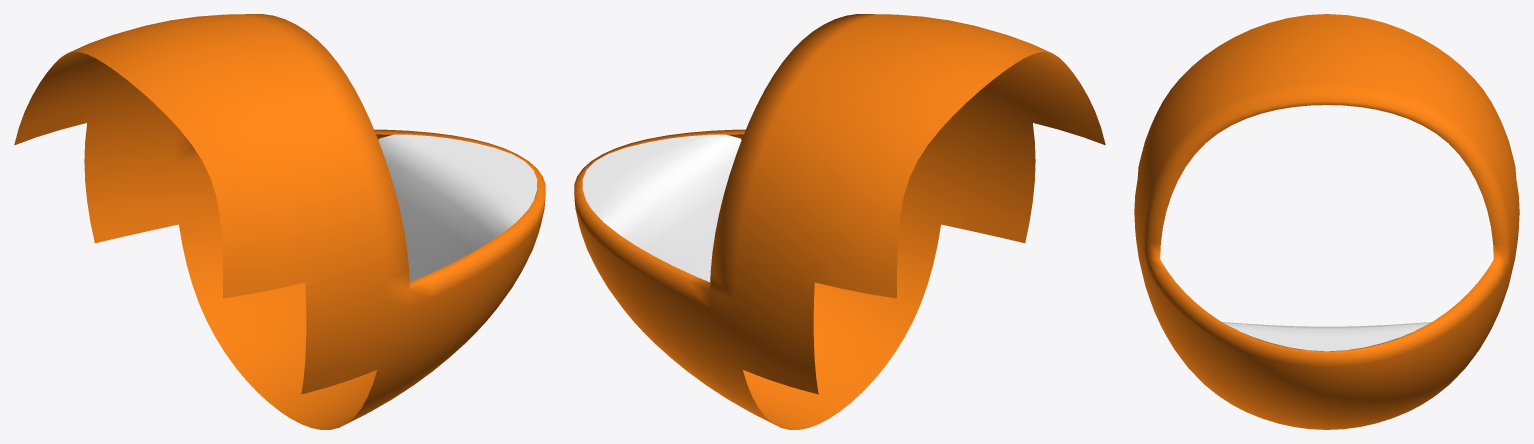
Rendered from nave_trozo1.glb.
3 renders of one model, left to right at view 1: azimuth 30°, elevation 25°; view 2: azimuth 150°, elevation 25°; view 3: azimuth 270°, elevation 25°, orthographic. The views are drawn at different scales.
Visible parts, largest first — view 1: Plane.004; view 2: Plane.004; view 3: Plane.004.
Part boxes in pixels (bbox=[...]): Plane.004: bbox=[14, 14, 545, 429]; Plane.004: bbox=[574, 14, 1105, 429]; Plane.004: bbox=[1134, 14, 1519, 429].
Bounding box in the file's own units: 4.66 × 4.19 × 4.35.
2 materials, 1 textured.
